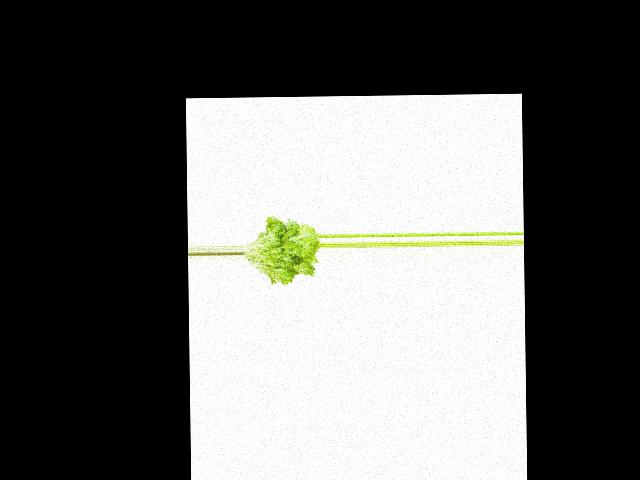lettuce: (241, 215, 320, 288)
